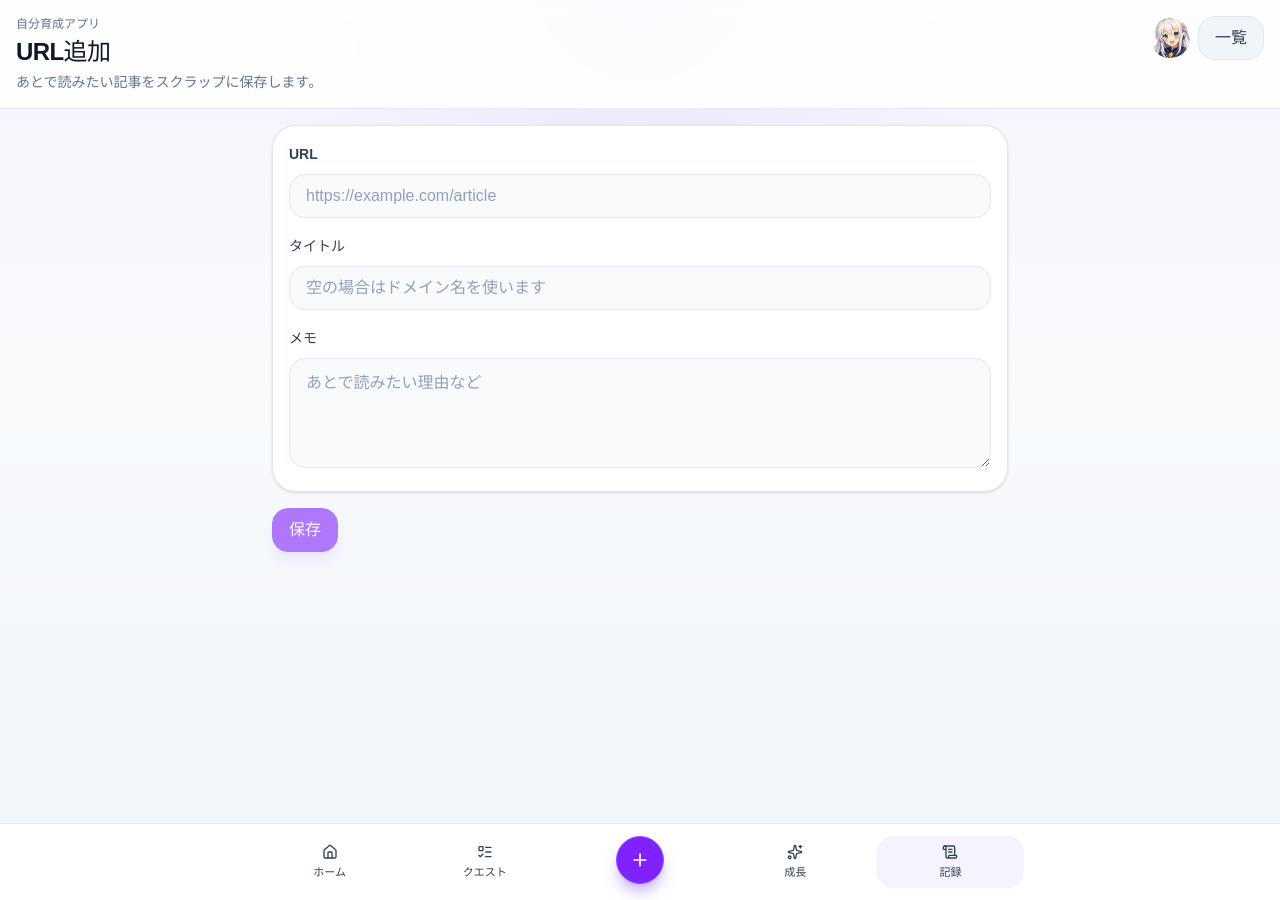
scrap article routes › adds a scrap from the manual form
Step 1. Type "https://example.com/manual" into the field labelled "URL" → (640,196), box [289,174,991,218]
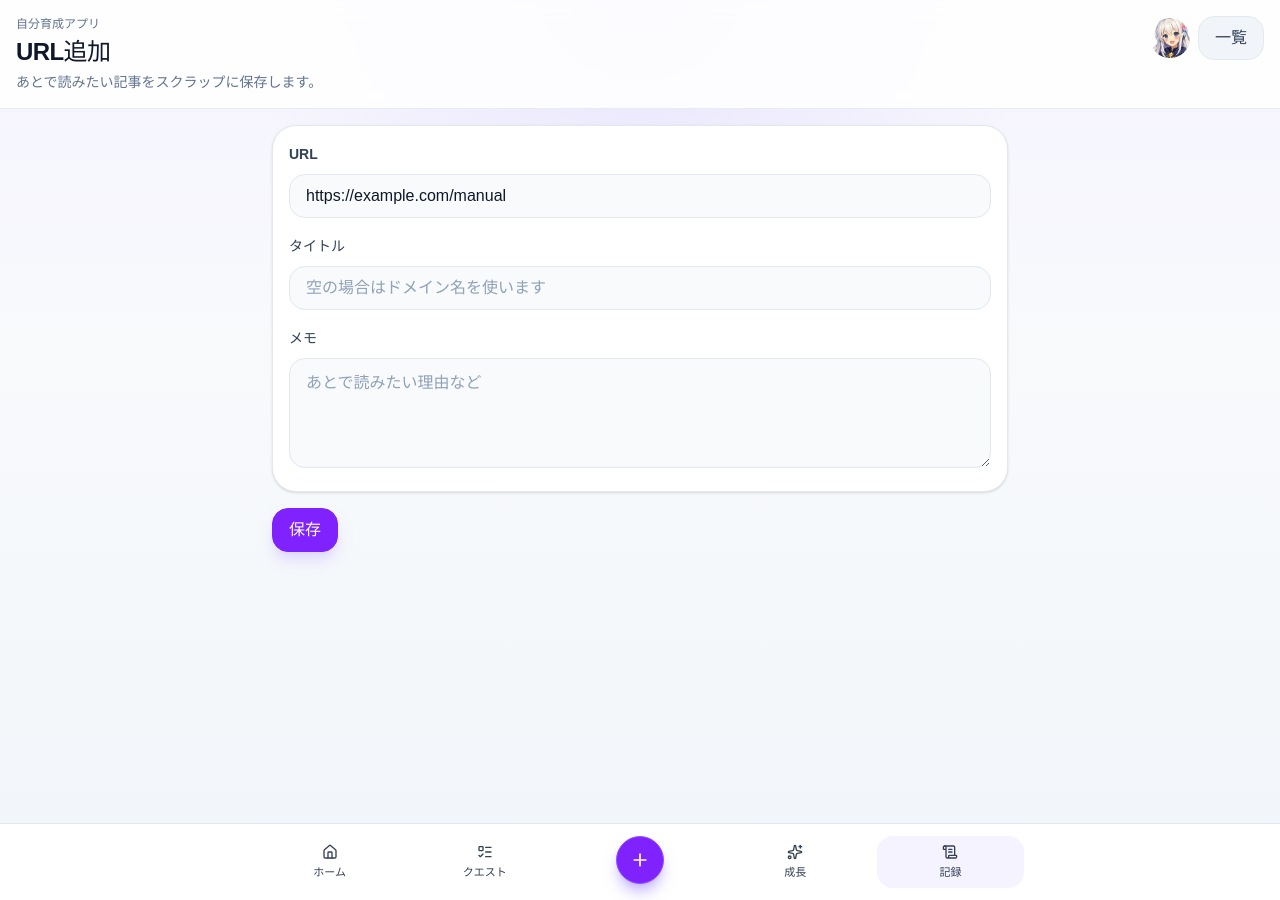
Step 2. Type "Manual article" into the field labelled "タイトル" → (640,288), box [289,266,991,310]
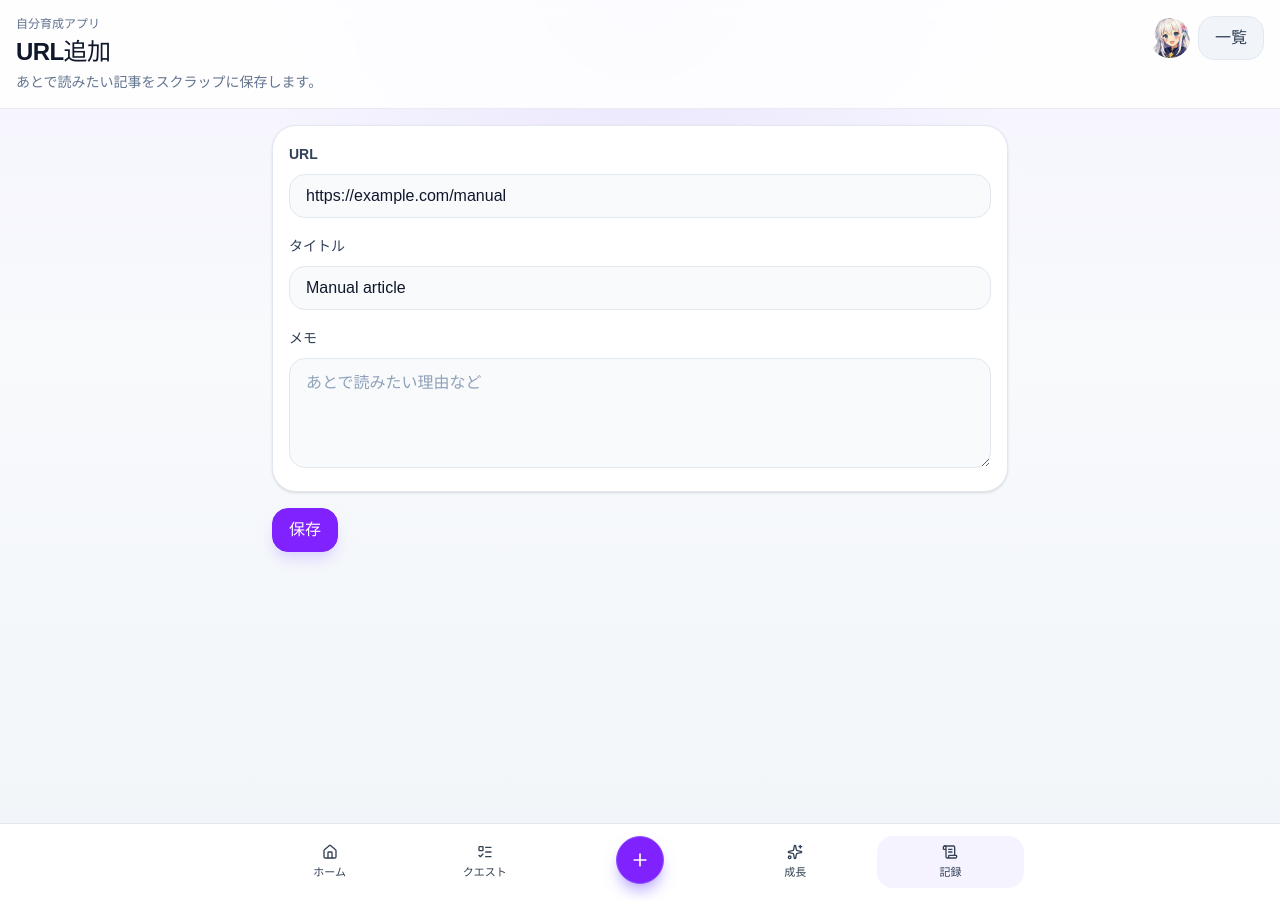
Step 3. Type "あとで読む" into the text box labelled "メモ" → (640,413), box [289,358,991,468]
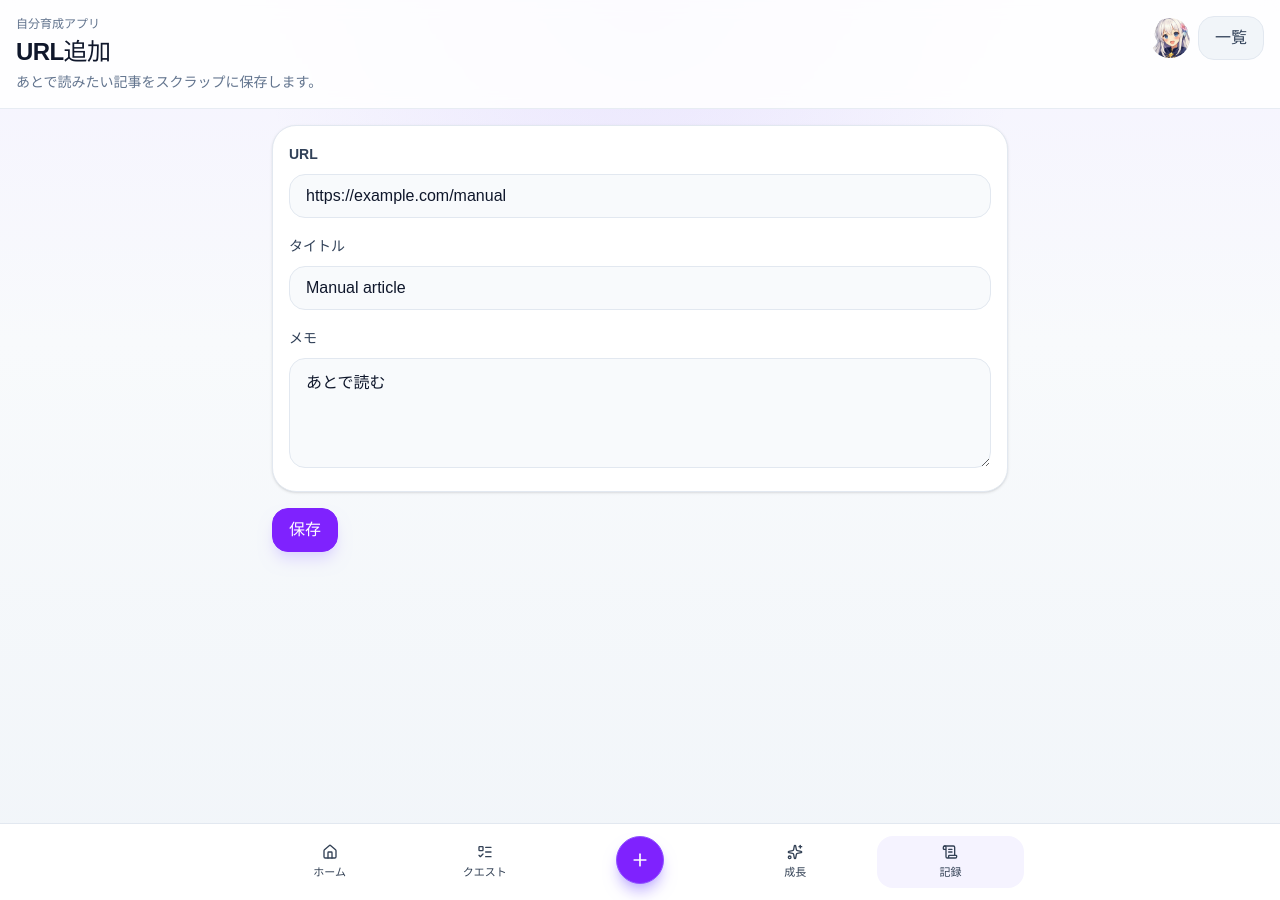
Step 4. Click the button "保存" → (305,530), box [272,508,338,552]
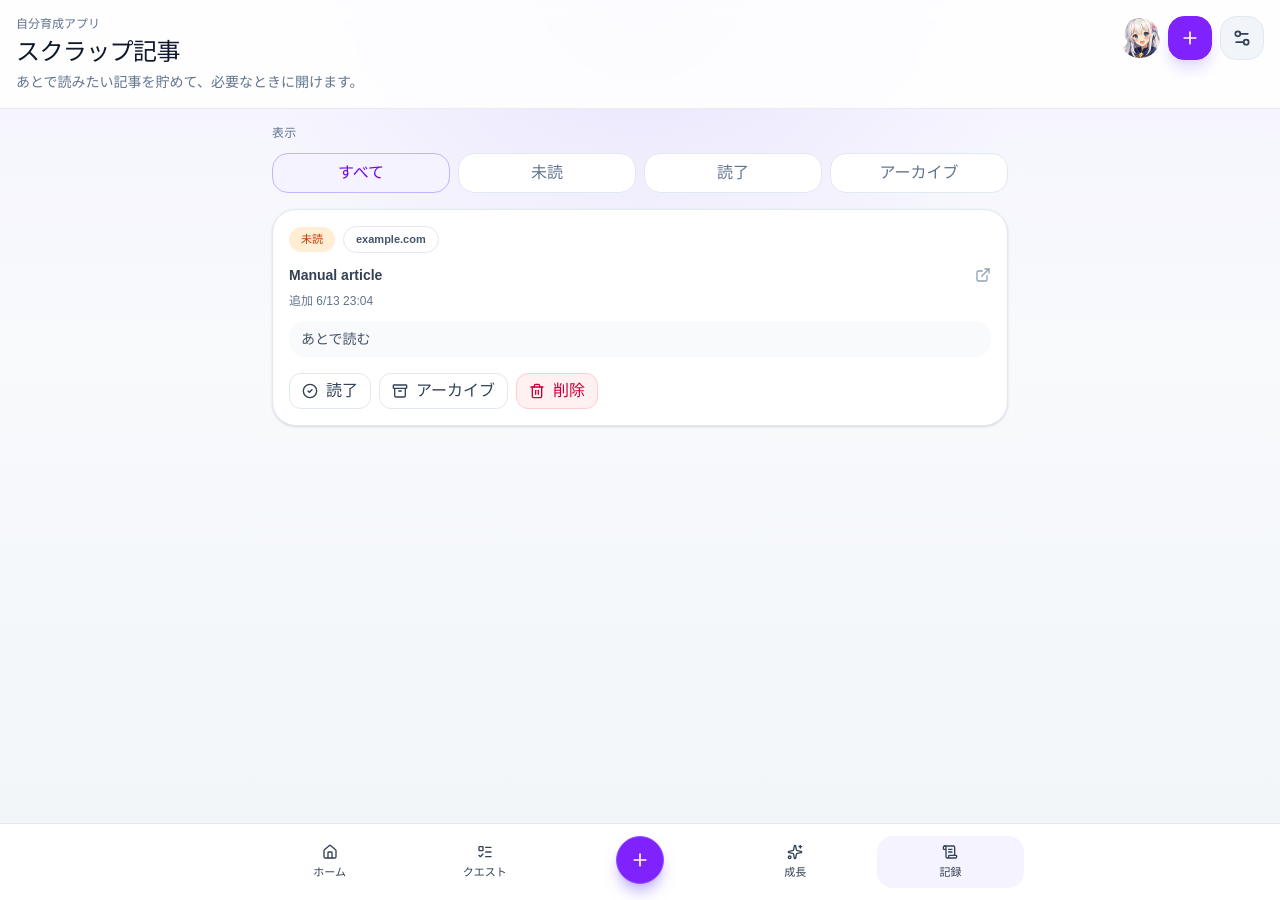
Check: the text "Manual article" is shown, box [289,266,382,282]
